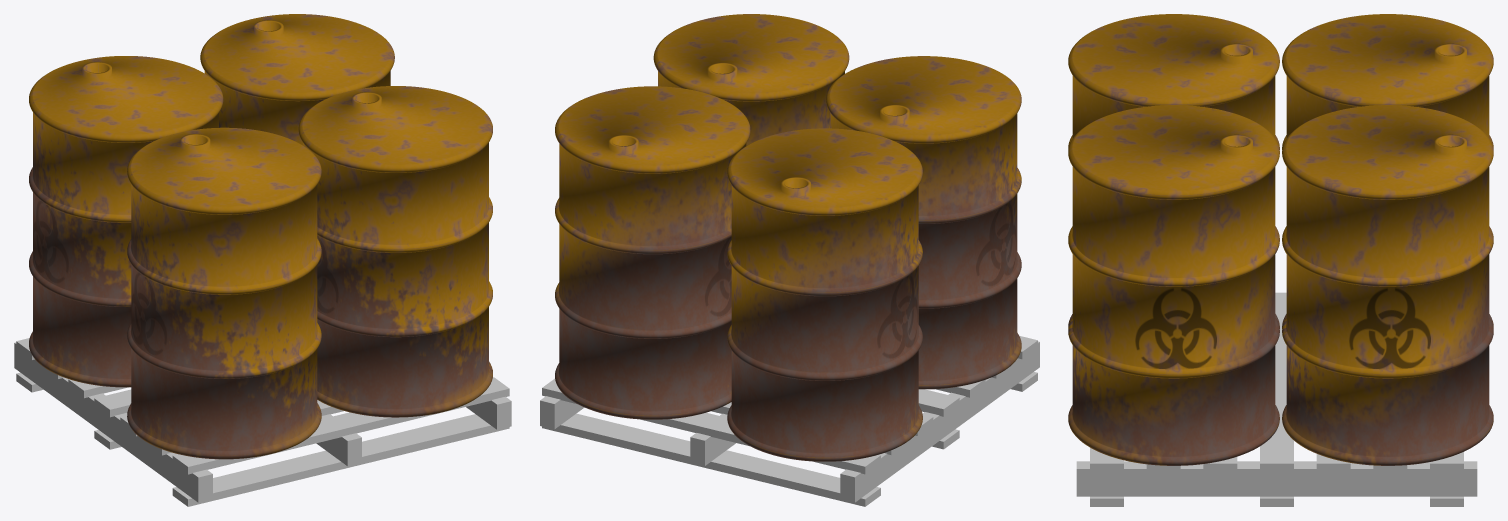
Rendered from Toxic Waste.fbx.
3 views of the same model, side by side, from view 1: azimuth 30°, elevation 25°; view 2: azimuth 150°, elevation 25°; view 3: azimuth 270°, elevation 25° (orthographic). The views are drawn at different scales.
Visible parts, largest first — view 1: Tank.001, Tank.003, Tank, Pallet, Tank.002; view 2: Tank, Tank.002, Tank.001, Pallet, Tank.003; view 3: Tank.003, Tank.002, Tank.001, Tank, Pallet.
Part boxes in pixels (<box>): Tank.001: <box>127,127,321,459</box>; Tank.003: <box>298,86,492,417</box>; Tank: <box>29,56,223,387</box>; Pallet: <box>14,338,511,506</box>; Tank.002: <box>200,14,394,145</box>; Tank: <box>727,128,922,461</box>; Tank.002: <box>555,86,750,419</box>; Tank.001: <box>826,56,1021,389</box>; Pallet: <box>540,336,1039,506</box>; Tank.003: <box>653,14,849,145</box>; Tank.003: <box>1068,105,1279,465</box>; Tank.002: <box>1282,105,1493,465</box>; Tank.001: <box>1068,14,1279,328</box>; Tank: <box>1282,14,1493,328</box>; Pallet: <box>1076,292,1477,506</box>.
Size of the model in its own units: 844 by 710 by 841.
